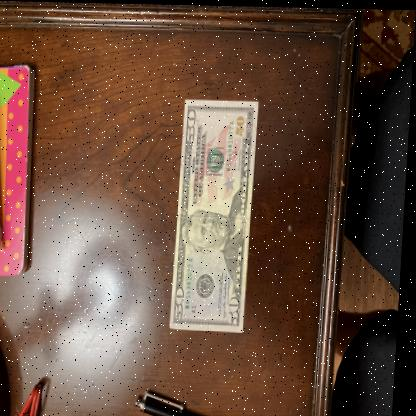fifty-front: (173, 97, 260, 331)
